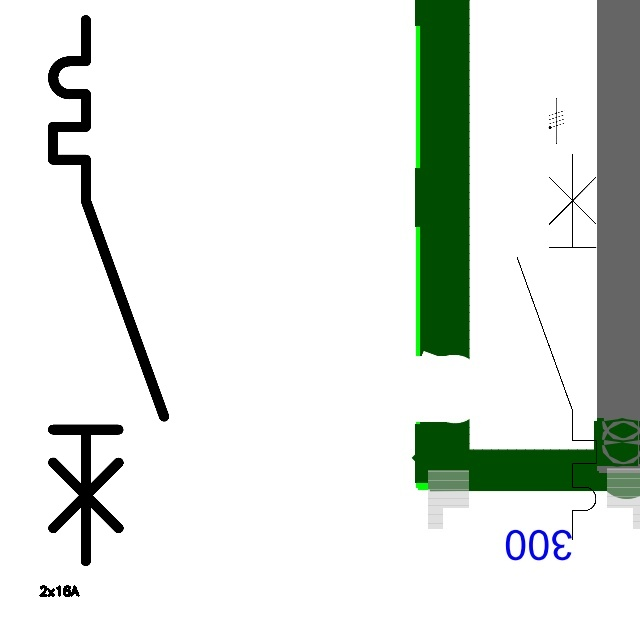interruptor_termomagnetico: (39, 6, 178, 575), (507, 143, 606, 549)
